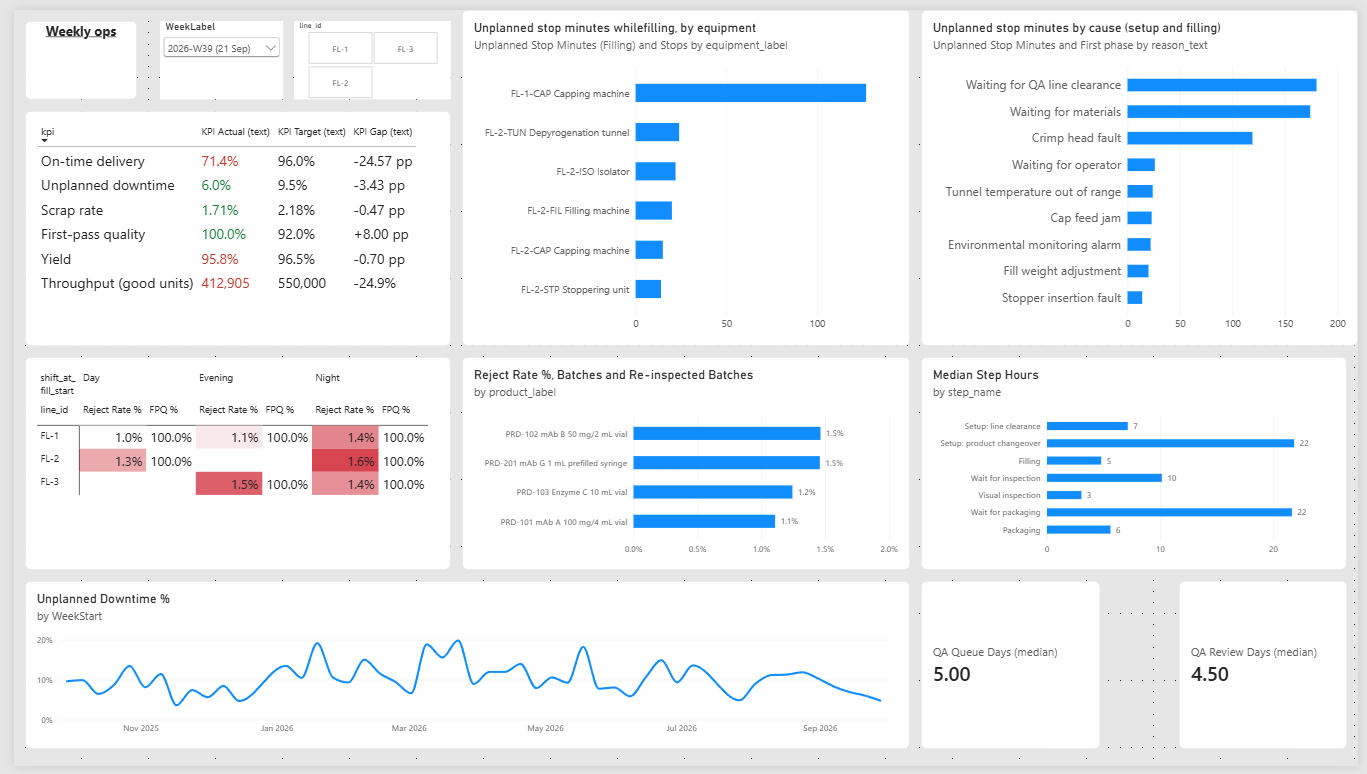

The page's visual inventory and layout, read from the dashboard file:
{"tool":"powerbi","page":{"name":"Weekly ops","canvas":[1920,1080],"ordinal":3},"visuals":[{"type":"slicer","fields":{"Values":["DimDate.WeekLabel"]},"box":[208,16,176,112],"z":0},{"type":"slicer","fields":{"Values":["DimLine.line_id"]},"box":[400,16,224,112],"z":1},{"type":"tableEx","fields":{"Values":["KPI_List.kpi","_Measures.KPI Actual (text)","_Measures.KPI Target (text)","_Measures.KPI Gap (text)"]},"box":[16,144,608,336],"z":2},{"type":"clusteredBarChart","title":"Unplanned stop minutes by cause (setup and filling)","fields":{"Category":["FactDowntime.reason_text"],"Y":["_Measures.Unplanned Stop Minutes"]},"box":[1296,0,624,480],"z":3},{"type":"clusteredBarChart","title":"Unplanned stop minutes whilefilling, by equipment","fields":{"Category":["DimEquipment.equipment_label"],"Y":["_Measures.Unplanned Stop Minutes (Filling)"]},"box":[640,0,640,480],"z":4},{"type":"pivotTable","fields":{"Columns":["FactBatch.shift_at_fill_start"],"Rows":["DimLine.line_id"],"Values":["_Measures.Reject Rate %","_Measures.FPQ %"]},"box":[16,496,608,304],"z":5},{"type":"barChart","fields":{"Category":["DimProduct.product_label"],"Y":["_Measures.Reject Rate %"]},"box":[640,496,640,304],"z":6},{"type":"barChart","fields":{"Category":["FactStep.step_name"],"Y":["_Measures.Median Step Hours"]},"box":[1296,496,608,304],"z":7},{"type":"cardVisual","fields":{"Data":["_Measures.QA Queue Days (median)"]},"box":[1296,816,256,240],"z":8},{"type":"cardVisual","fields":{"Data":["_Measures.QA Review Days (median)"]},"box":[1664,816,240,240],"z":9},{"type":"lineChart","fields":{"Category":["DimDate.WeekStart"],"Y":["_Measures.Unplanned Downtime %"]},"box":[16,816,1264,240],"z":10},{"type":"textbox","box":[16,16,160,112],"z":11}]}

Visuals, with their boxes in screenshot pixels (x1, y1, x2, y2), scaled from the page's 1920x1080 canvas onto the 1367x774 screenshot:
slicer - DimDate.WeekLabel: x1=148, y1=11, x2=273, y2=92
slicer - DimLine.line_id: x1=285, y1=11, x2=444, y2=92
tableEx - KPI_List.kpi x _Measures.KPI Actual (text): x1=11, y1=103, x2=444, y2=344
"Unplanned stop minutes by cause (setup and filling)" clusteredBarChart: x1=923, y1=0, x2=1366, y2=344
"Unplanned stop minutes whilefilling, by equipment" clusteredBarChart: x1=456, y1=0, x2=911, y2=344
pivotTable - FactBatch.shift_at_fill_start x DimLine.line_id: x1=11, y1=355, x2=444, y2=573
barChart - DimProduct.product_label x _Measures.Reject Rate %: x1=456, y1=355, x2=911, y2=573
barChart - FactStep.step_name x _Measures.Median Step Hours: x1=923, y1=355, x2=1356, y2=573
cardVisual - _Measures.QA Queue Days (median): x1=923, y1=585, x2=1105, y2=757
cardVisual - _Measures.QA Review Days (median): x1=1185, y1=585, x2=1356, y2=757
lineChart - DimDate.WeekStart x _Measures.Unplanned Downtime %: x1=11, y1=585, x2=911, y2=757
textbox: x1=11, y1=11, x2=125, y2=92
